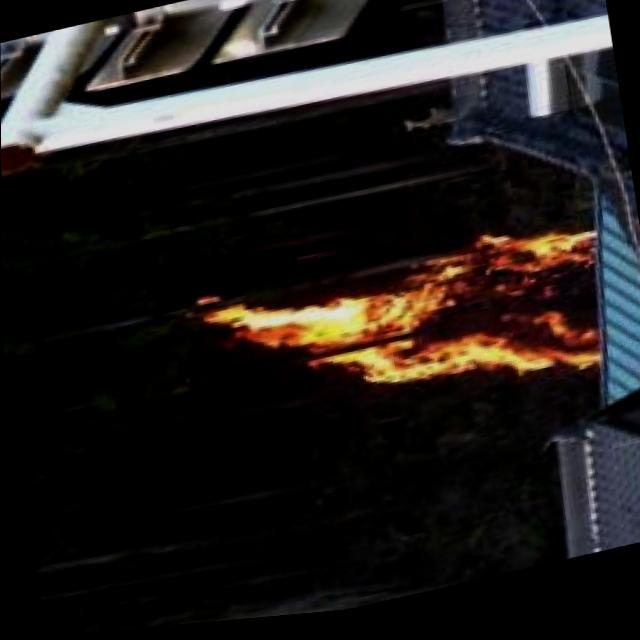Fire: (194, 216, 612, 452)
